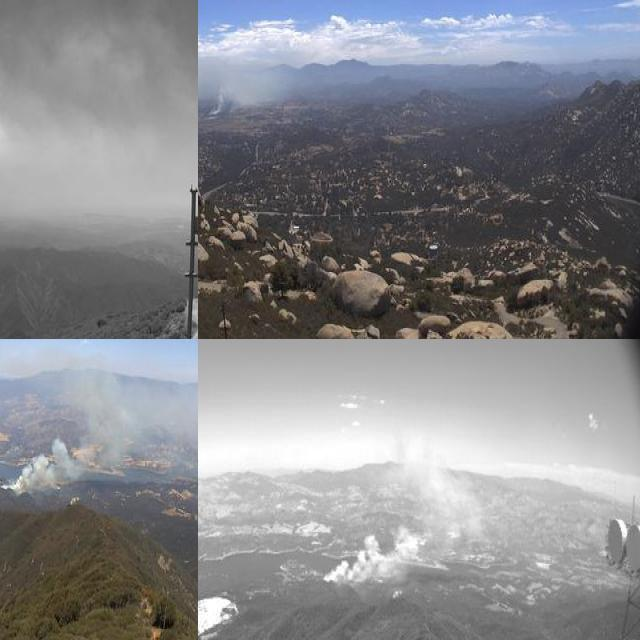smoke: (0, 341, 198, 501), (317, 419, 491, 596), (198, 43, 296, 117)
